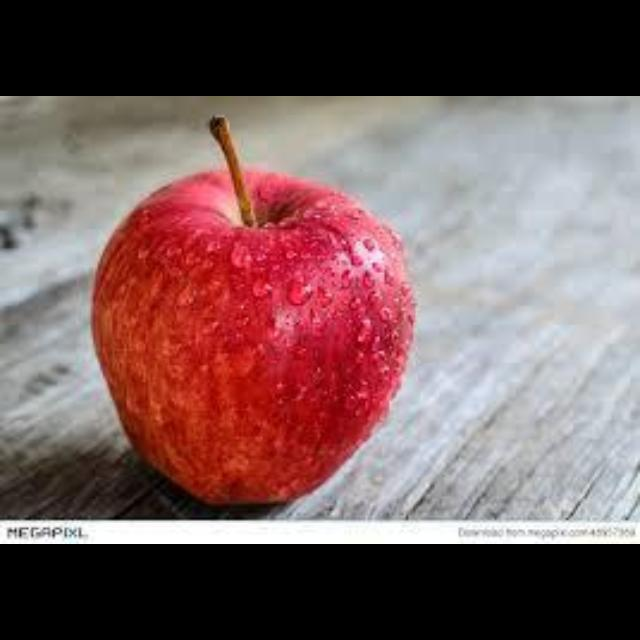apple: (91, 115, 413, 502)
